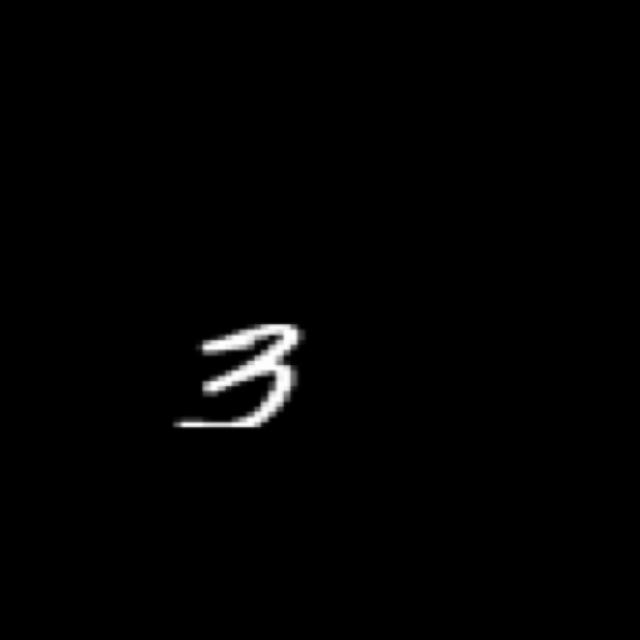three -3-: (174, 314, 309, 438)
